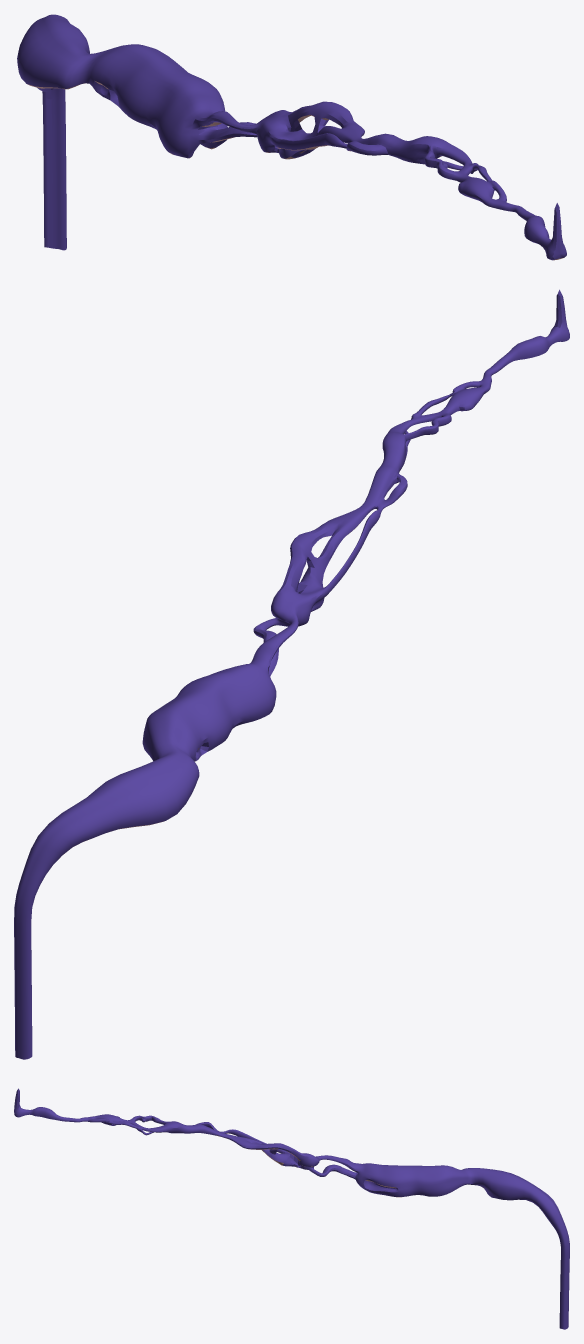
File: Tunnel_8.fbx
3 views of the same model, one above another, from view 1: azimuth 30°, elevation 25°; view 2: azimuth 150°, elevation 25°; view 3: azimuth 270°, elevation 25° (orthographic). The views are drawn at different scales.
Parts seen in each view (by area): view 1: Tunnel_8; view 2: Tunnel_8; view 3: Tunnel_8.
Boxes of the visible parts, x1=… form: Tunnel_8: x1=17, y1=14, x2=566, y2=260; Tunnel_8: x1=14, y1=289, x2=569, y2=1059; Tunnel_8: x1=14, y1=1088, x2=569, y2=1329.
Size of the model in its own units: 12919 by 51038 by 112627.
